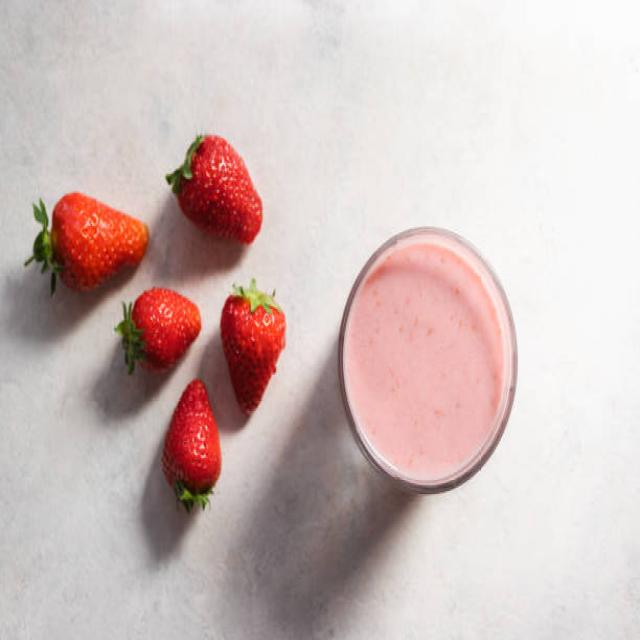Healthy Fruit: (51, 188, 149, 293), (174, 134, 264, 248), (220, 291, 285, 418), (162, 378, 222, 496), (131, 287, 203, 377)
